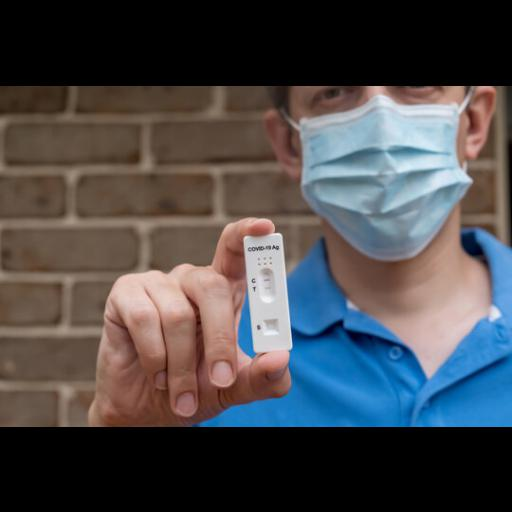Pos: (245, 233, 293, 352)
